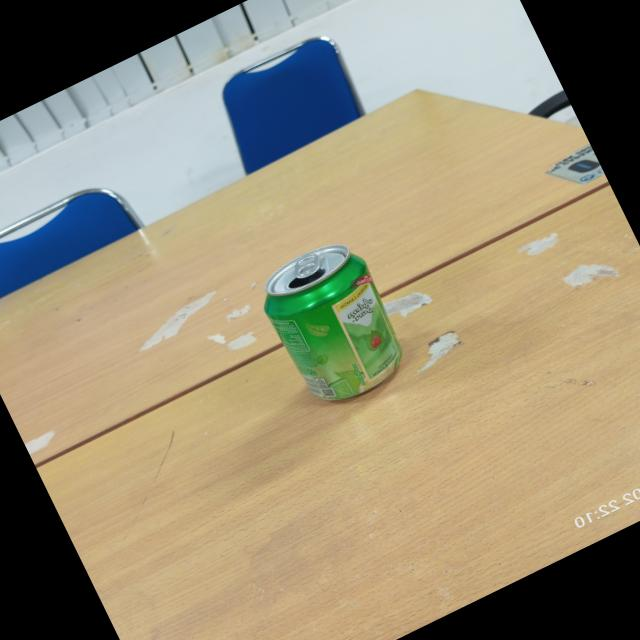ademsarikaleng: (247, 228, 418, 416)
